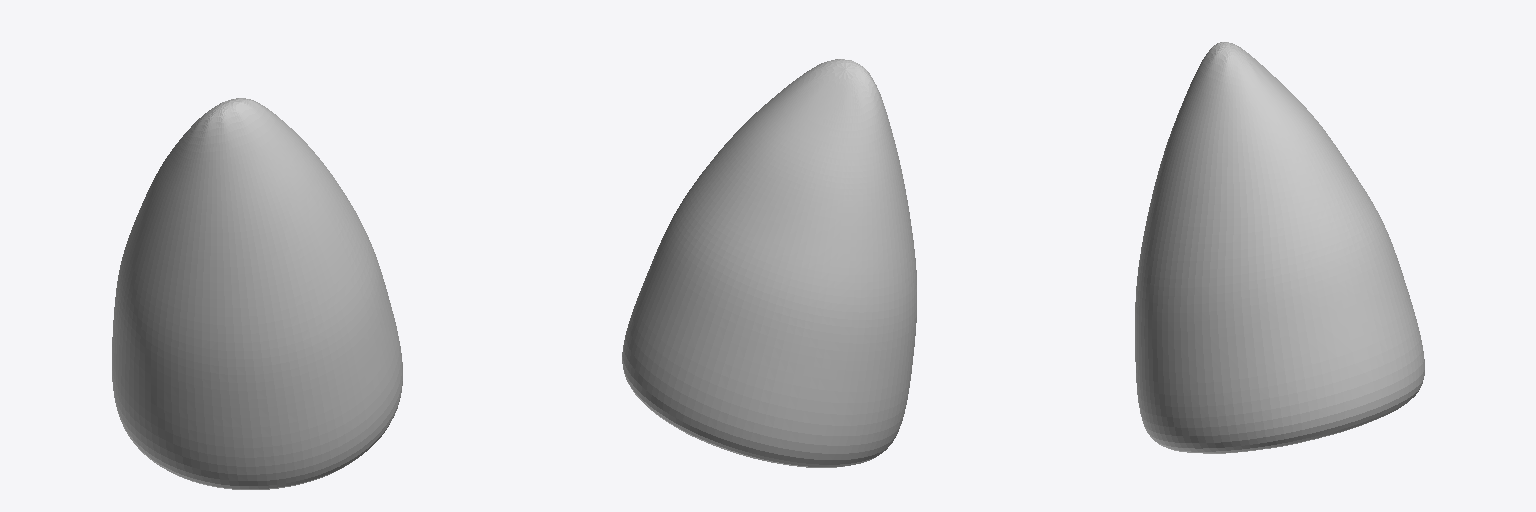
The model's file is lowlegL.obj.
3 renders of one model, left to right at view 1: azimuth 30°, elevation 25°; view 2: azimuth 150°, elevation 25°; view 3: azimuth 270°, elevation 25°, orthographic.
Visible parts, largest first — view 1: polySurface10 uploads_files_[number redacted]_Guts_man:Mesh; view 2: polySurface10 uploads_files_[number redacted]_Guts_man:Mesh; view 3: polySurface10 uploads_files_[number redacted]_Guts_man:Mesh.
Part boxes in pixels (x1,y1,x2,y2): polySurface10 uploads_files_[number redacted]_Guts_man:Mesh: (112, 98, 402, 489); polySurface10 uploads_files_[number redacted]_Guts_man:Mesh: (622, 59, 916, 467); polySurface10 uploads_files_[number redacted]_Guts_man:Mesh: (1135, 42, 1424, 453).
Size of the model in its own units: 0.4238 by 0.5933 by 0.4176.